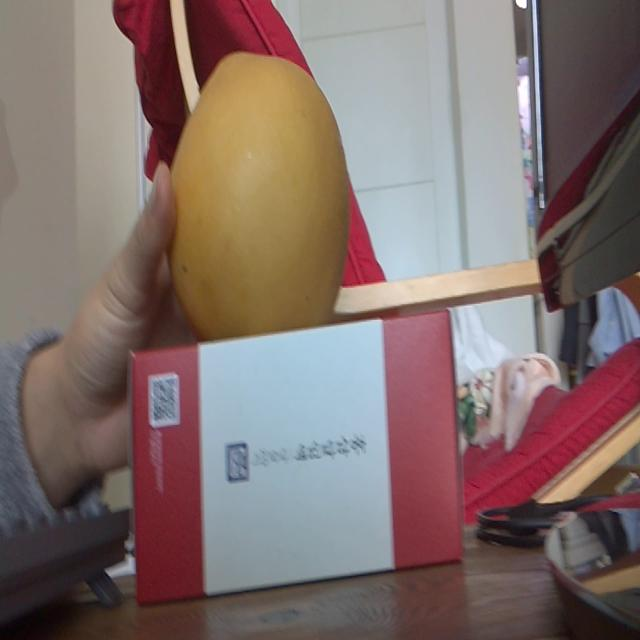pear: (167, 54, 350, 338)
